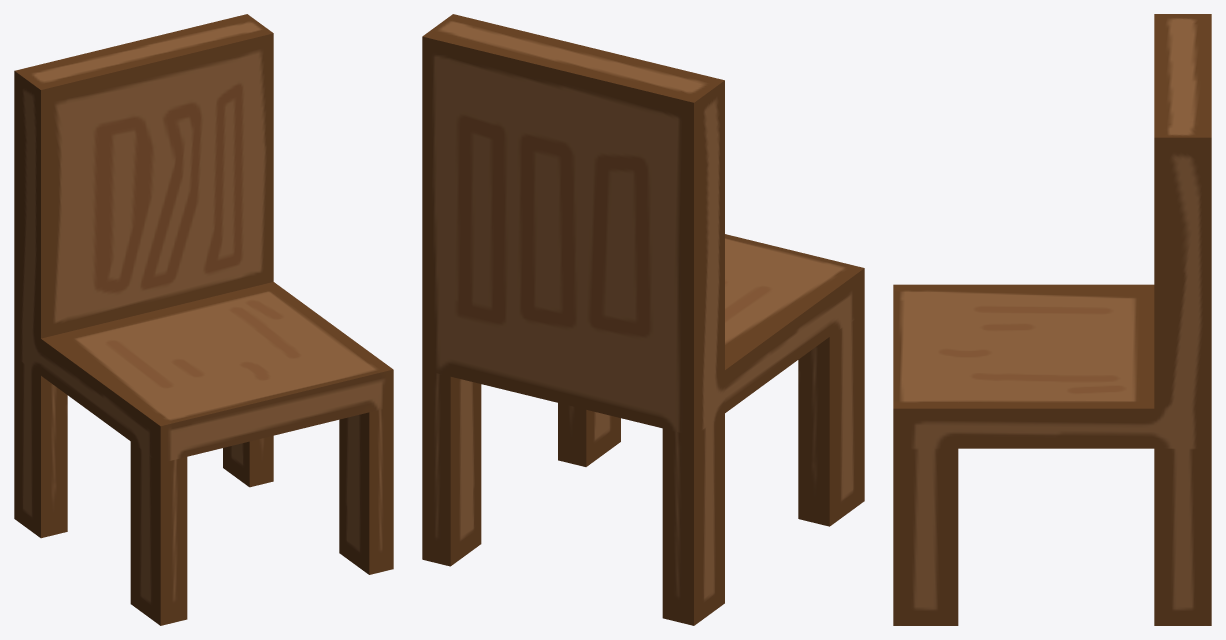
Rendered from chair.fbx.
3 renders of one model, left to right at view 1: azimuth 30°, elevation 25°; view 2: azimuth 150°, elevation 25°; view 3: azimuth 270°, elevation 25°, orthographic. The views are drawn at different scales.
Parts seen in each view (by area): view 1: pCube5; view 2: pCube5; view 3: pCube5.
Part boxes in pixels (x1,y1,x2,y2): pCube5: (14, 14, 393, 625); pCube5: (422, 14, 864, 625); pCube5: (893, 14, 1211, 625).
Bounding box in the file's own units: 1.36 × 2.5 × 1.48.
